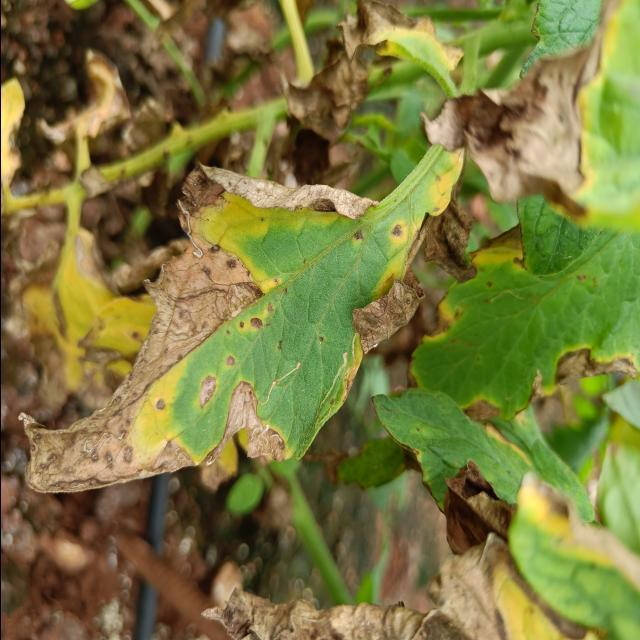Tomato mosaic virus leaf: (11, 147, 426, 507)
